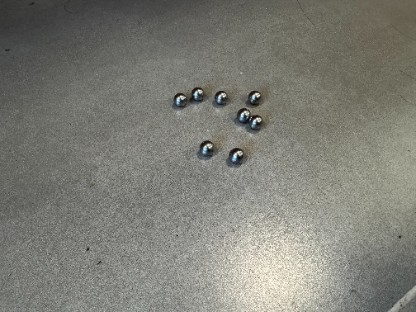ironball: (228, 147, 243, 163), (199, 140, 214, 156), (248, 114, 262, 129), (236, 108, 251, 122), (247, 90, 261, 104), (214, 90, 227, 104), (191, 87, 204, 100), (174, 92, 186, 106)
